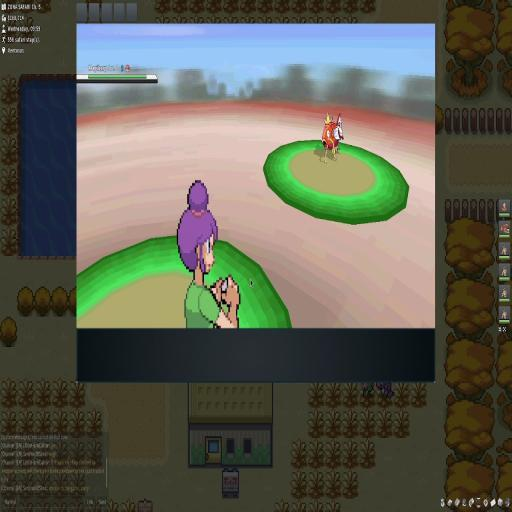MAGIKARP: (320, 114, 345, 165)
